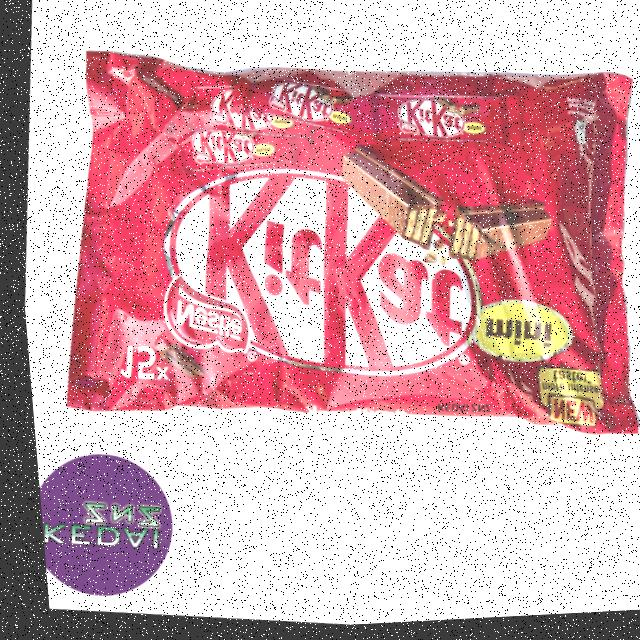kitkat: (30, 18, 640, 474)
